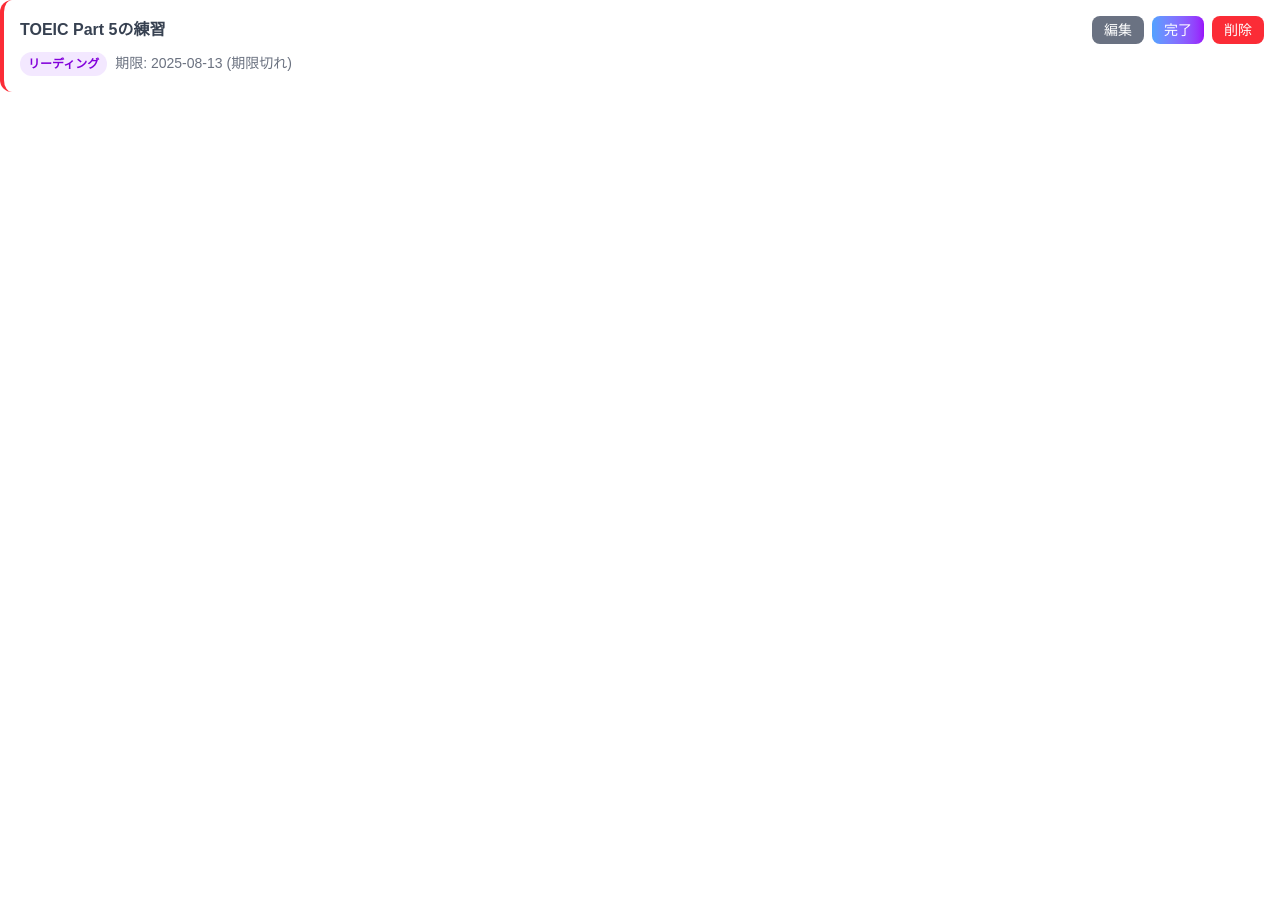
Test case: タスク編集機能 › 編集ボタンをクリックするとタスク編集モーダルが表示されること
Click the button "編集" at (1118, 30), box x1=1092 y1=16 x2=1144 y2=44
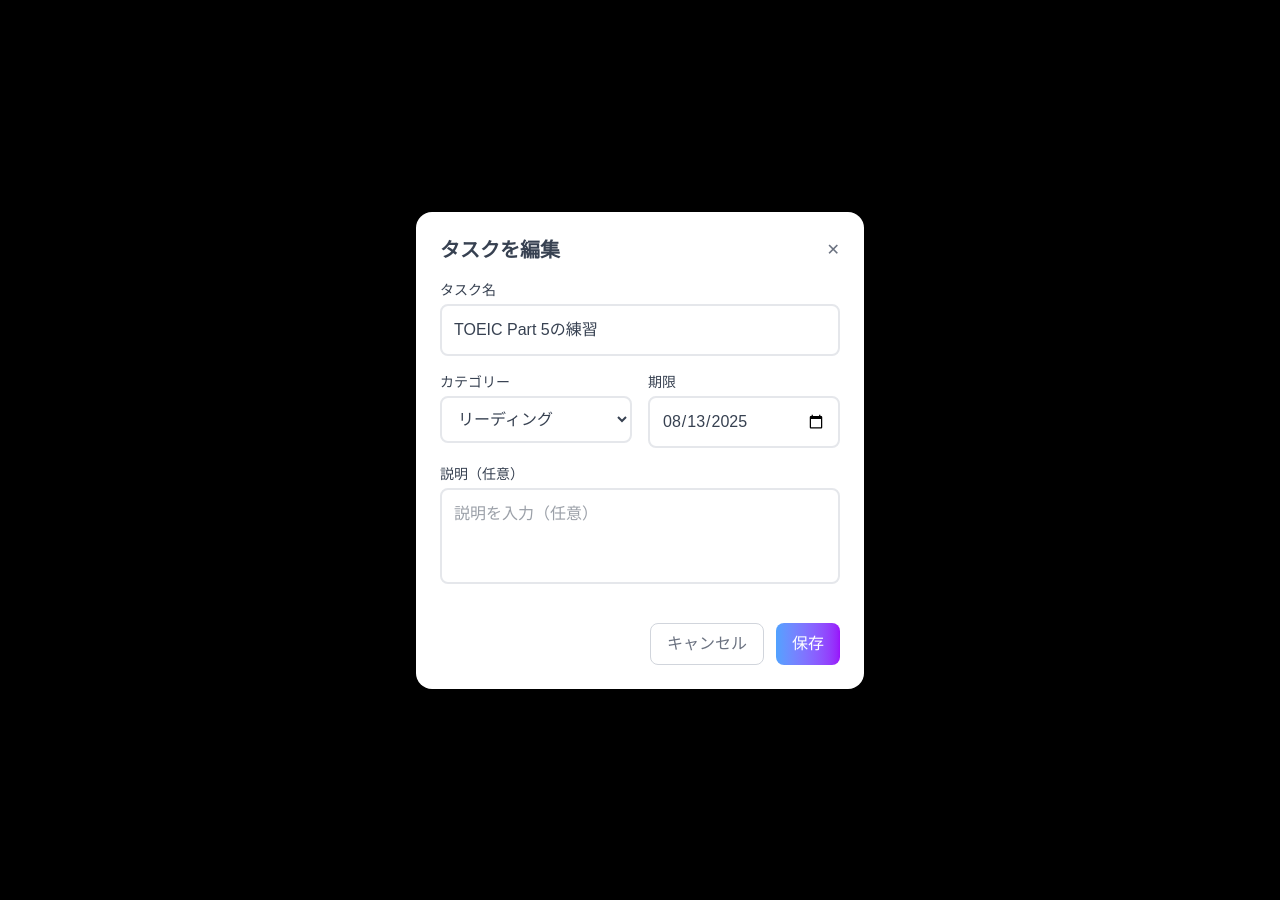
Check: the heading "タスクを編集" is shown, box x1=440 y1=236 x2=560 y2=264
Check: the field showing "TOEIC Part 5の練習" is shown, box x1=440 y1=304 x2=840 y2=356
Check: the date field showing "2025-08-13" is shown, box x1=648 y1=396 x2=840 y2=448
